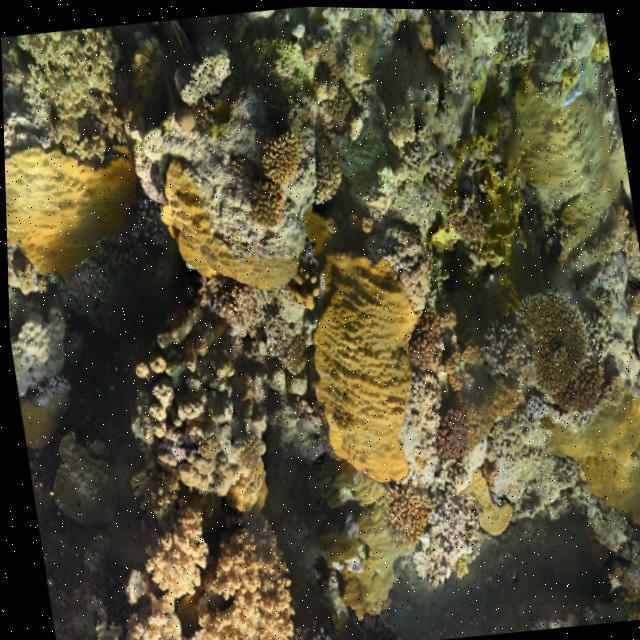Bleached Coral: (7, 301, 95, 458)
Healthy Coral: (525, 275, 598, 378)
